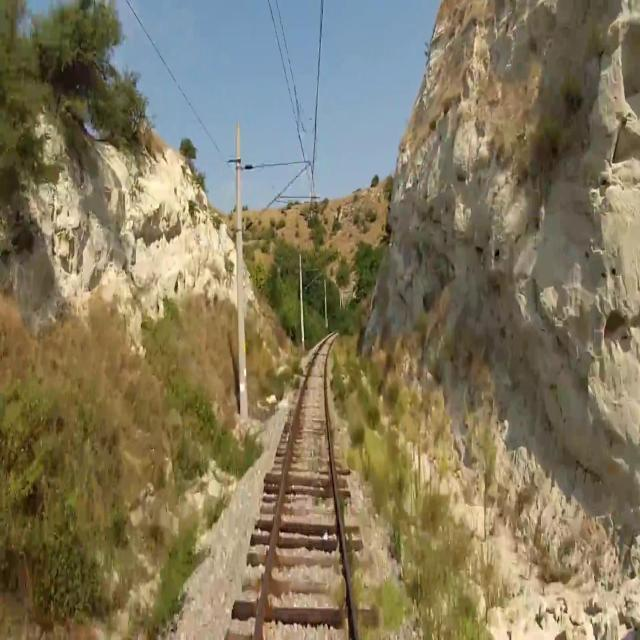rail-track: (259, 337, 353, 639)
